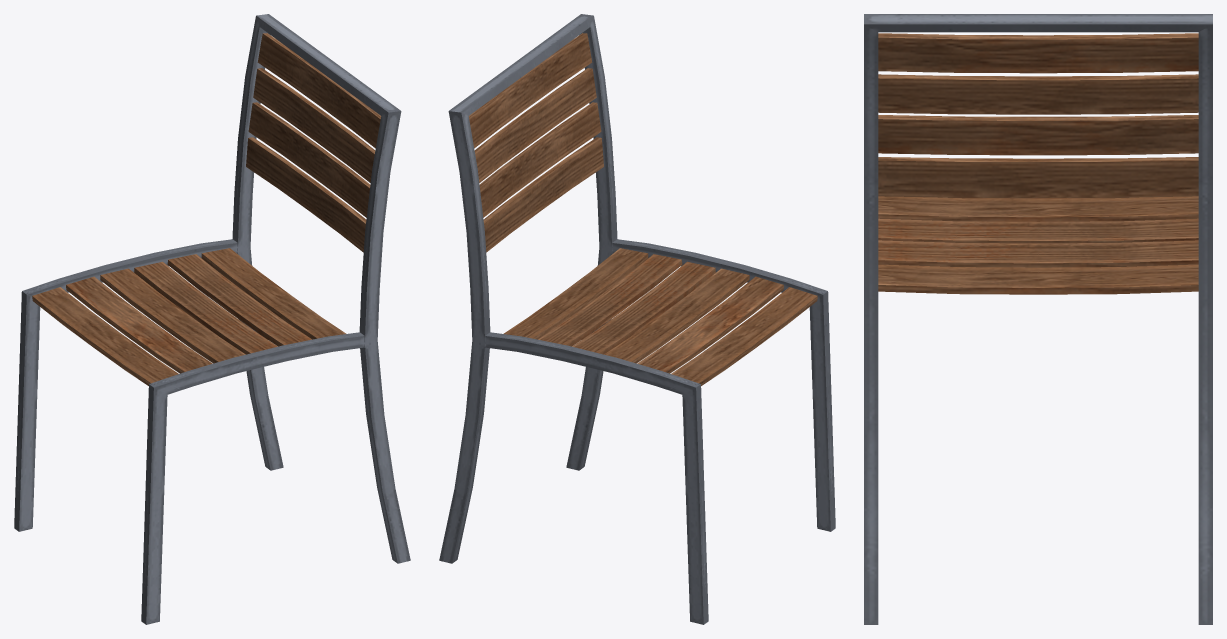
The model's file is MB_Cafe_Chair_02.fbx.
3 views of the same model, side by side, from view 1: azimuth 30°, elevation 25°; view 2: azimuth 150°, elevation 25°; view 3: azimuth 270°, elevation 25° (orthographic). The views are drawn at different scales.
Parts seen in each view (by area): view 1: MB_Cafe_Chair_02_LOD0; view 2: MB_Cafe_Chair_02_LOD0; view 3: MB_Cafe_Chair_02_LOD0.
Part boxes in pixels (left/top/right/bottom): MB_Cafe_Chair_02_LOD0: left=14, top=14, right=410, bottom=624; MB_Cafe_Chair_02_LOD0: left=439, top=14, right=835, bottom=624; MB_Cafe_Chair_02_LOD0: left=864, top=14, right=1212, bottom=624.
Size of what is drawn, in the model's own units: 58.1 by 95.25 by 50.47.
